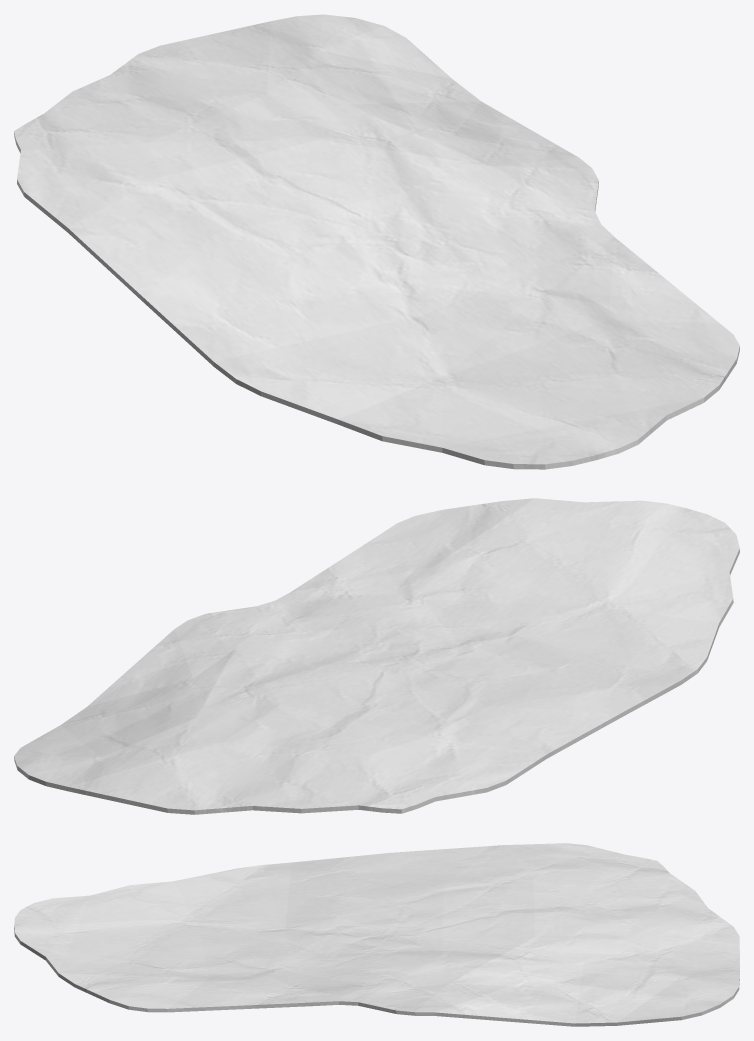
The model's file is safe_code.glb.
The picture shows the model from 3 angles, top to bottom: view 1: azimuth 30°, elevation 25°; view 2: azimuth 150°, elevation 25°; view 3: azimuth 270°, elevation 25°; orthographic projection. The views are drawn at different scales.
Parts seen in each view (by area): view 1: Plane.001; view 2: Plane.001; view 3: Plane.001.
Boxes of the visible parts, <box> form: Plane.001: <box>14,14,739,469</box>; Plane.001: <box>14,498,739,814</box>; Plane.001: <box>14,843,739,1026</box>.
Size of the model in its own units: 0.5104 by 0.0476 by 0.9642.
Materials: 1 (1 with a texture image).
